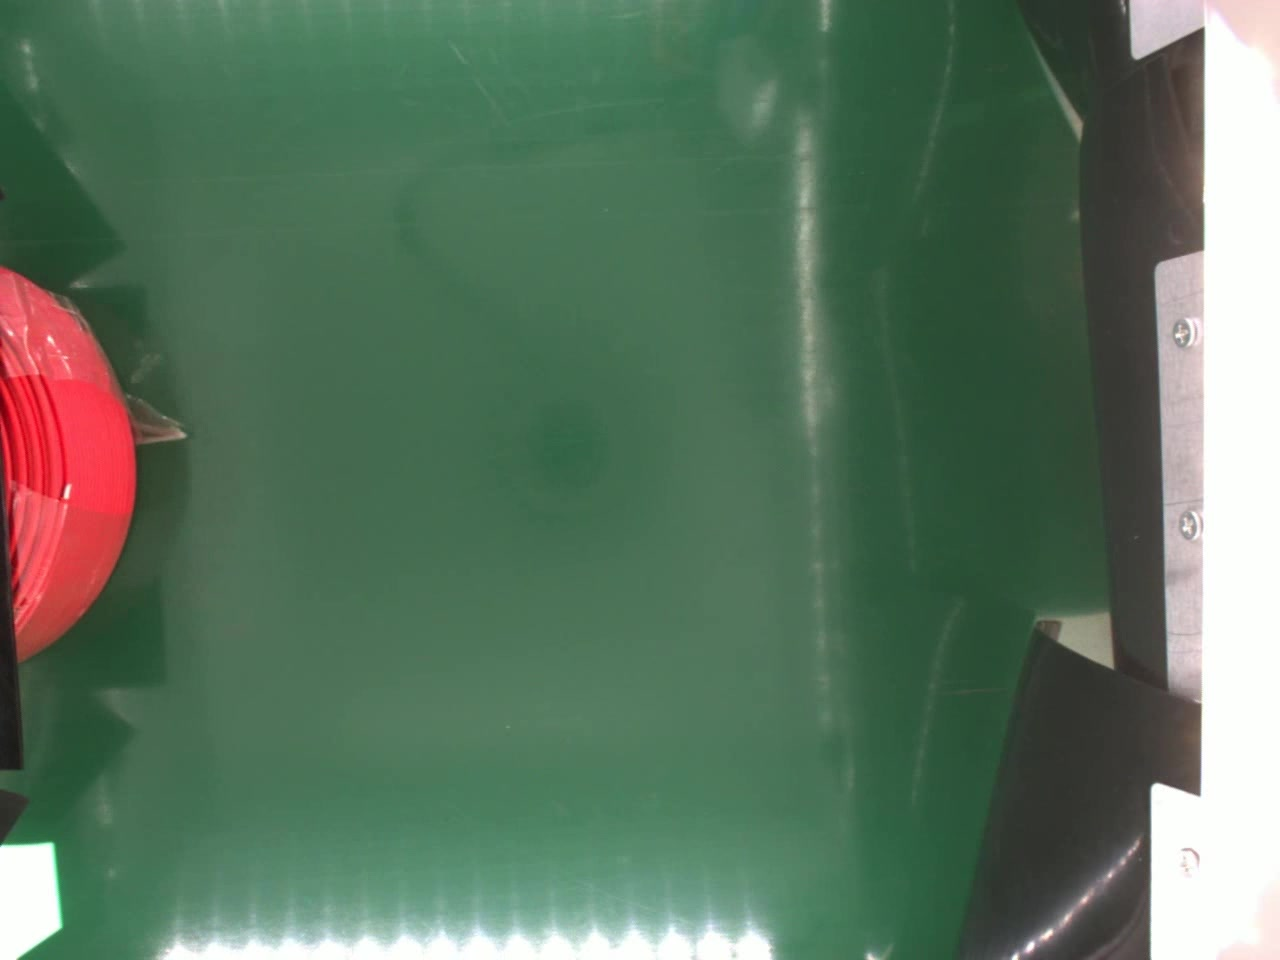red: (0, 259, 133, 663)
